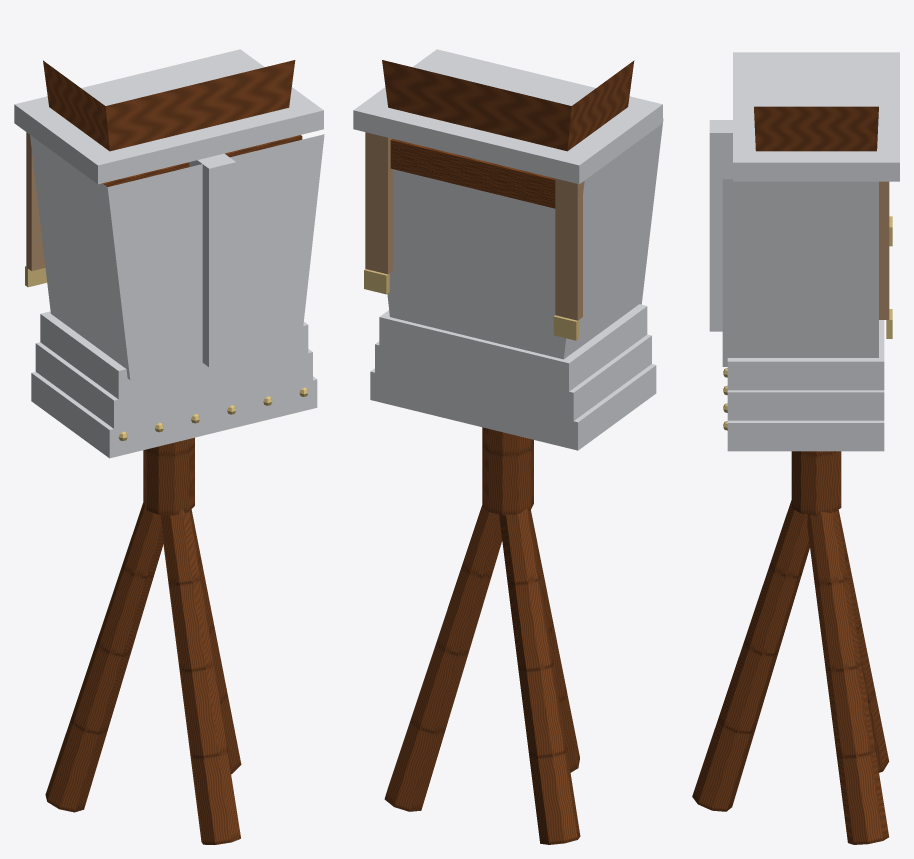
The model's file is breastplate-on-a-torso-form-1-45-m.glb.
3 views of the same model, side by side, from view 1: azimuth 30°, elevation 25°; view 2: azimuth 150°, elevation 25°; view 3: azimuth 270°, elevation 25° (orthographic).
Parts seen in each view (by area): view 1: blacksmith-forge-and-armoury-breastplate-on-form; view 2: blacksmith-forge-and-armoury-breastplate-on-form; view 3: blacksmith-forge-and-armoury-breastplate-on-form.
Part boxes in pixels (x1=…): blacksmith-forge-and-armoury-breastplate-on-form: x1=14, y1=49, x2=324, y2=844; blacksmith-forge-and-armoury-breastplate-on-form: x1=353, y1=49, x2=663, y2=844; blacksmith-forge-and-armoury-breastplate-on-form: x1=692, y1=52, x2=899, y2=844.
Size of the model in its own units: 0.5 by 1.58 by 0.3984.
4 materials, 1 textured.
